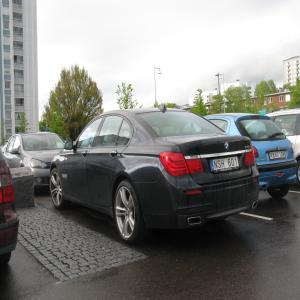Vehicle-registration-plate: (209, 156, 240, 175), (269, 150, 287, 162)
